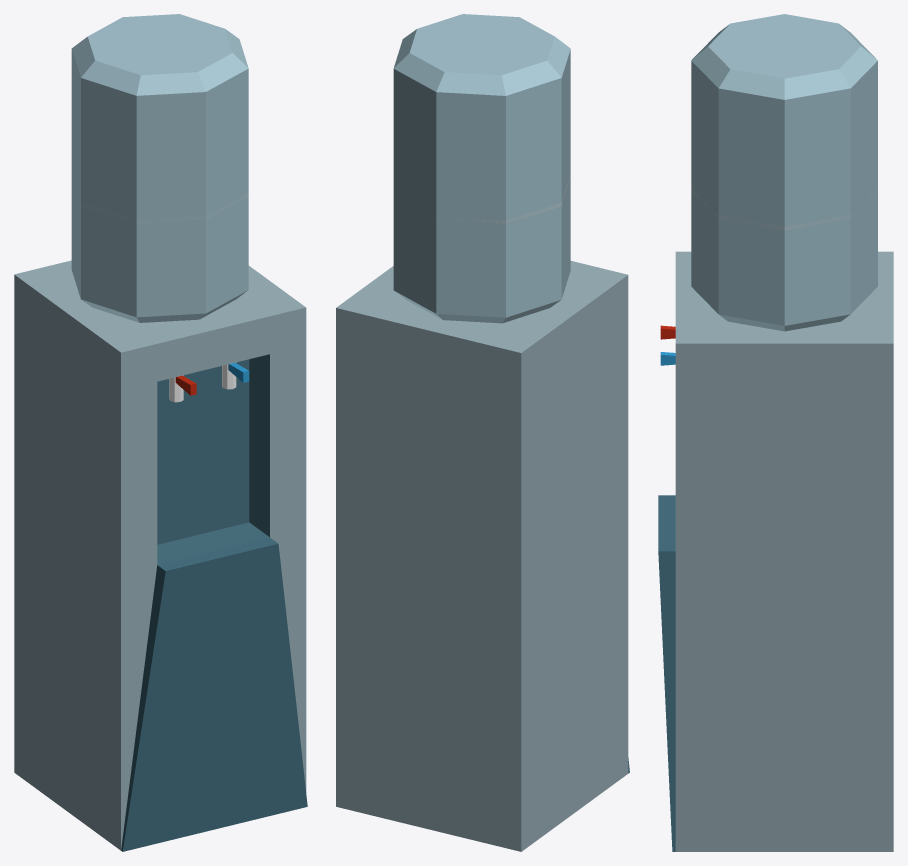
The model's file is WaterCooler.fbx.
The picture shows the model from 3 angles, left to right: view 1: azimuth 30°, elevation 25°; view 2: azimuth 150°, elevation 25°; view 3: azimuth 270°, elevation 25°; orthographic projection. The views are drawn at different scales.
Visible parts, largest first — view 1: WaterContainer, WaterGlass; view 2: WaterContainer, WaterGlass; view 3: WaterContainer, WaterGlass.
Boxes of the visible parts, x1,y1,x2,y2 form: WaterContainer: (14, 260, 307, 851); WaterGlass: (71, 14, 248, 322); WaterContainer: (336, 261, 629, 851); WaterGlass: (393, 14, 570, 323); WaterContainer: (658, 251, 893, 851); WaterGlass: (691, 14, 877, 331).
Bounding box in the file's own units: 0.4506 × 0.4864 × 1.73.
